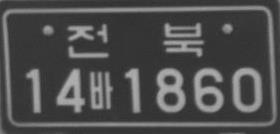0: (231, 66, 262, 113)
1: (21, 67, 51, 113), (120, 67, 148, 114)
4: (55, 67, 85, 113)
6: (193, 66, 224, 113)
8: (156, 67, 186, 113)
바: (89, 71, 113, 109)
전북_D: (67, 21, 204, 57)
